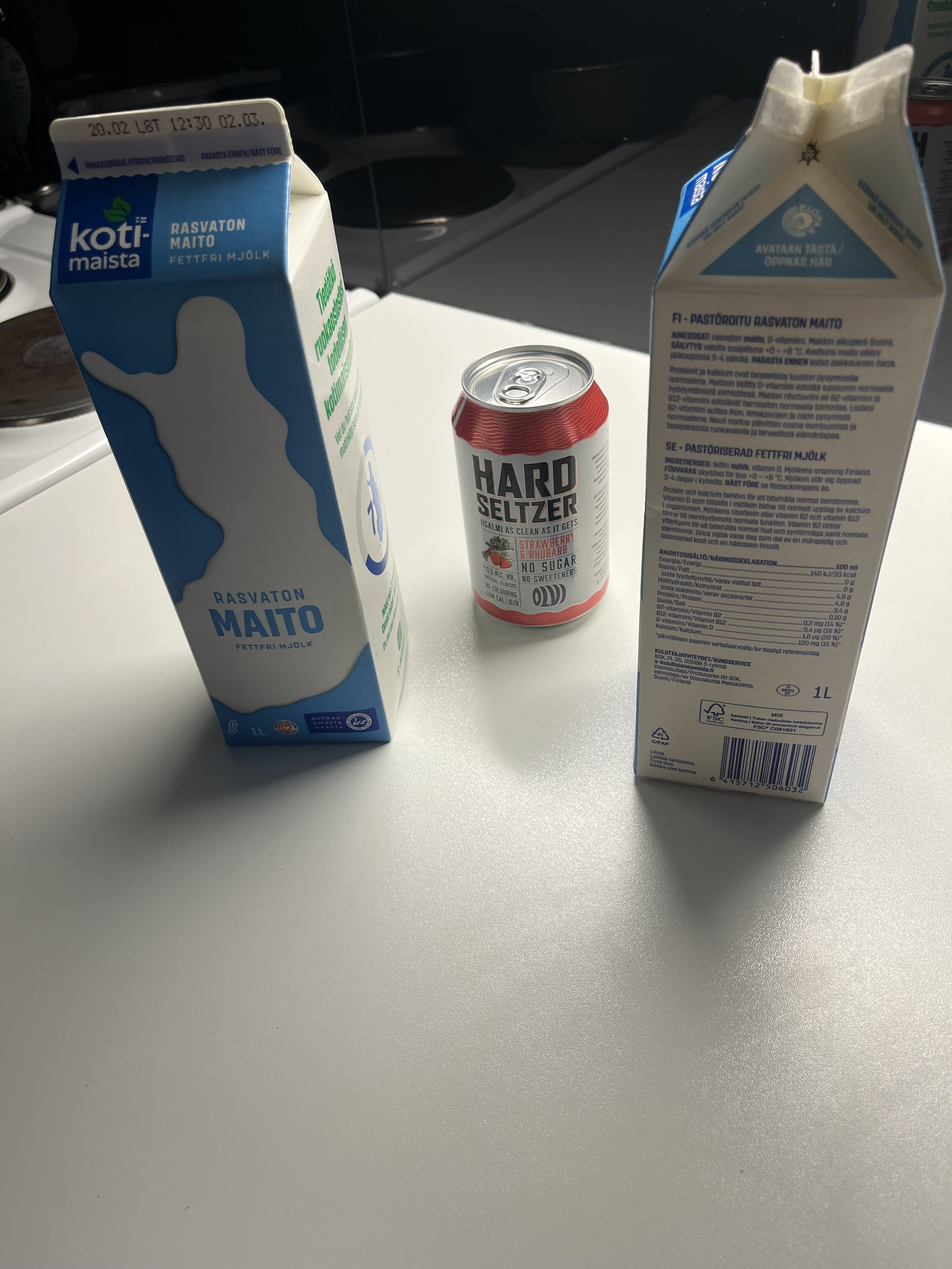Dryckeskartong: (619, 37, 945, 831), (27, 94, 417, 748)
Pantburk: (450, 344, 617, 628)
